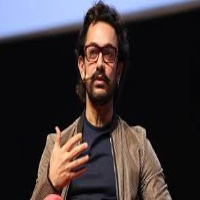ring: (64, 153, 91, 171)
